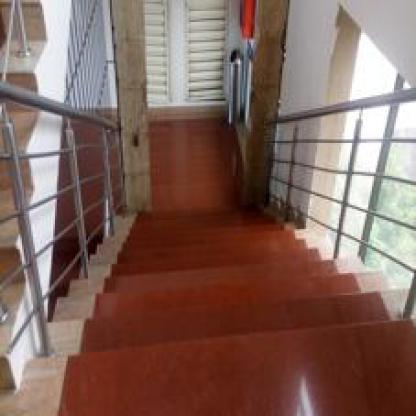stair_down: (57, 260, 380, 378)
